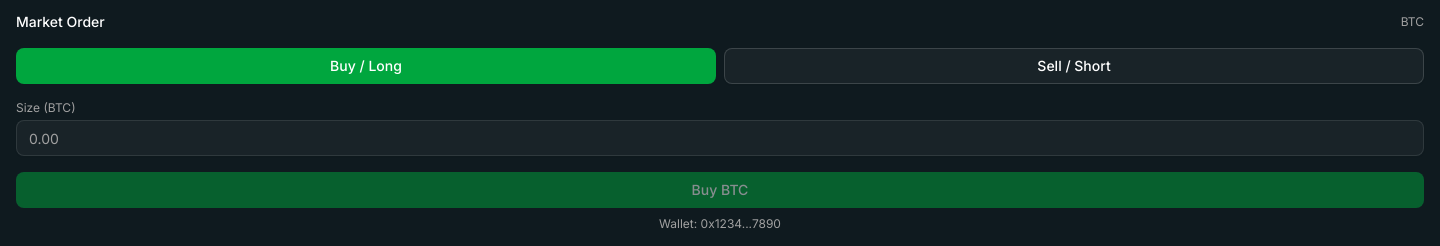
Test: OrderEntry › toggles between buy and sell sides
Click the button "Sell / Short" at point(1074, 66), box [724,48,1424,84]
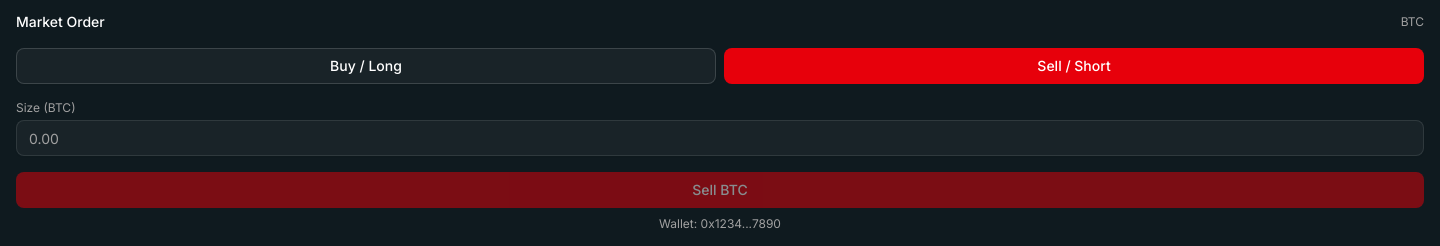
Expected: the button "Sell BTC" is shown, [16,172,1424,208]
